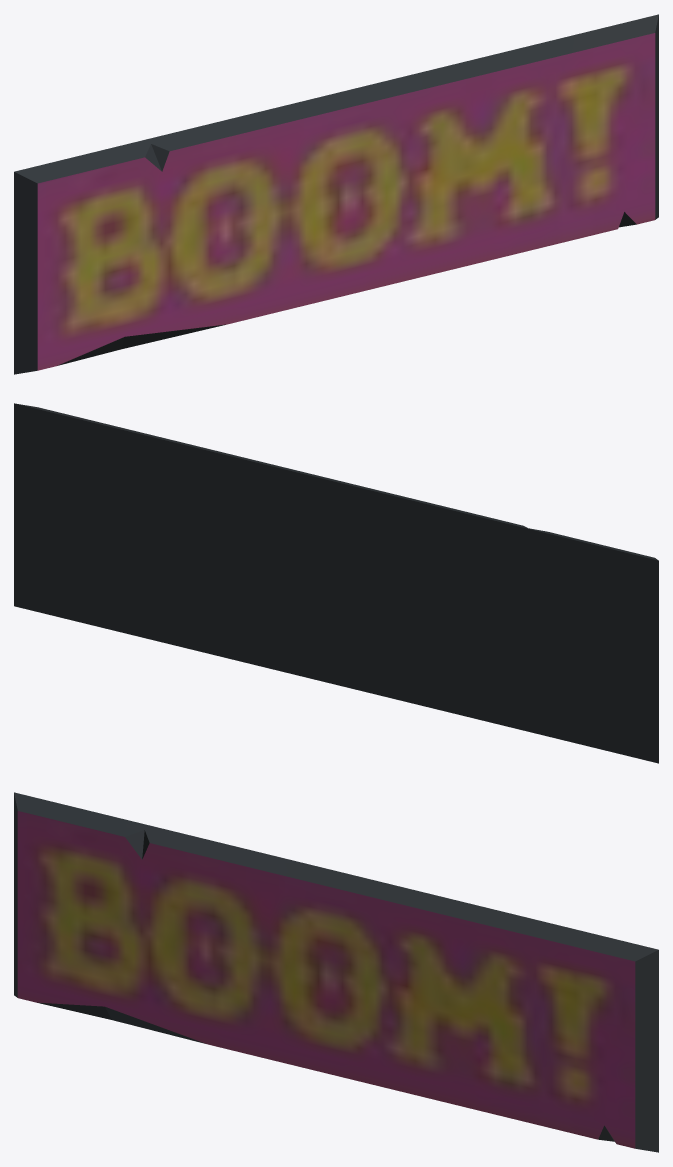
The model's file is SM_Prop_Sign_Boom_01.glb.
3 renders of one model, top to bottom at view 1: azimuth 30°, elevation 25°; view 2: azimuth 150°, elevation 25°; view 3: azimuth 330°, elevation 25°, orthographic.
Visible parts, largest first — view 1: SM_Prop_Sign_Boom_01; view 2: SM_Prop_Sign_Boom_01; view 3: SM_Prop_Sign_Boom_01.
Part boxes in pixels (x1,y1,x2,y2): SM_Prop_Sign_Boom_01: (14, 14, 658, 374); SM_Prop_Sign_Boom_01: (14, 403, 658, 763); SM_Prop_Sign_Boom_01: (14, 792, 658, 1152).
Bounding box in the file's own units: 188 × 56.43 × 5.04.
Materials: 1 (1 with a texture image).
